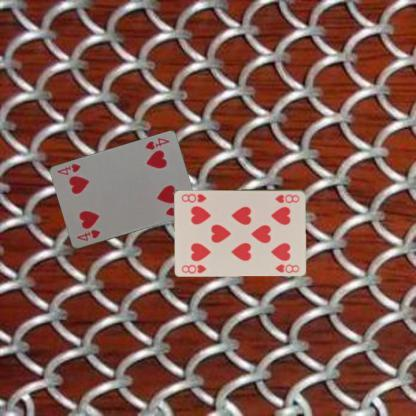4h: (142, 136, 171, 152), (74, 227, 101, 243)
8h: (179, 262, 208, 274), (273, 192, 300, 204)
